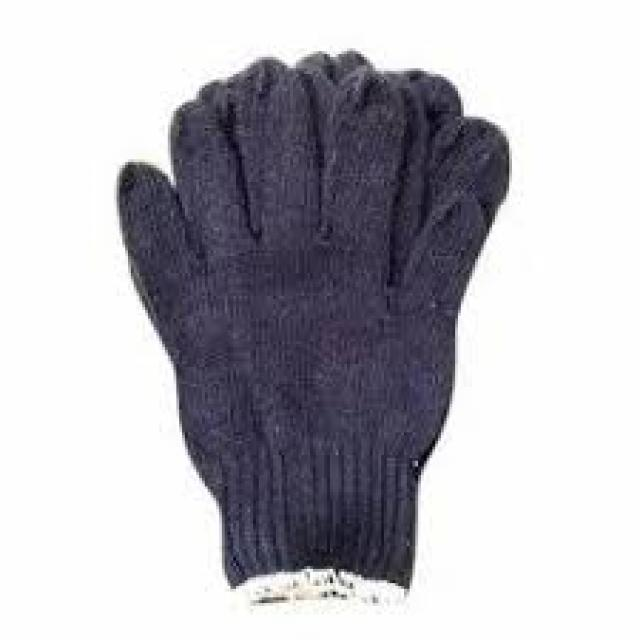Clothes -Biodegradable-: (119, 55, 512, 593)
